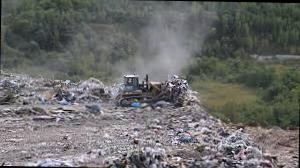Smoke: (136, 0, 210, 82)
